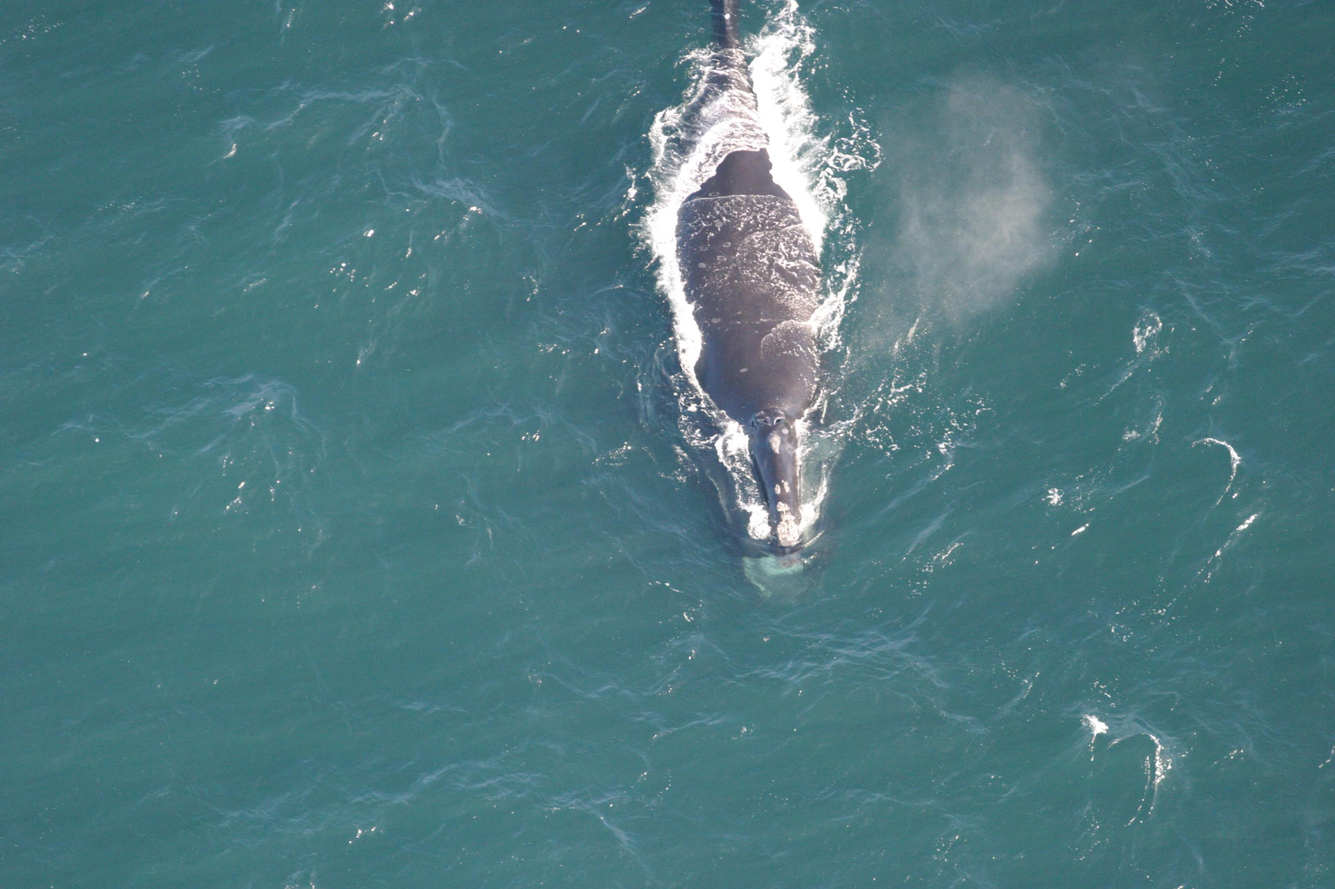whale: (605, 0, 871, 612)
